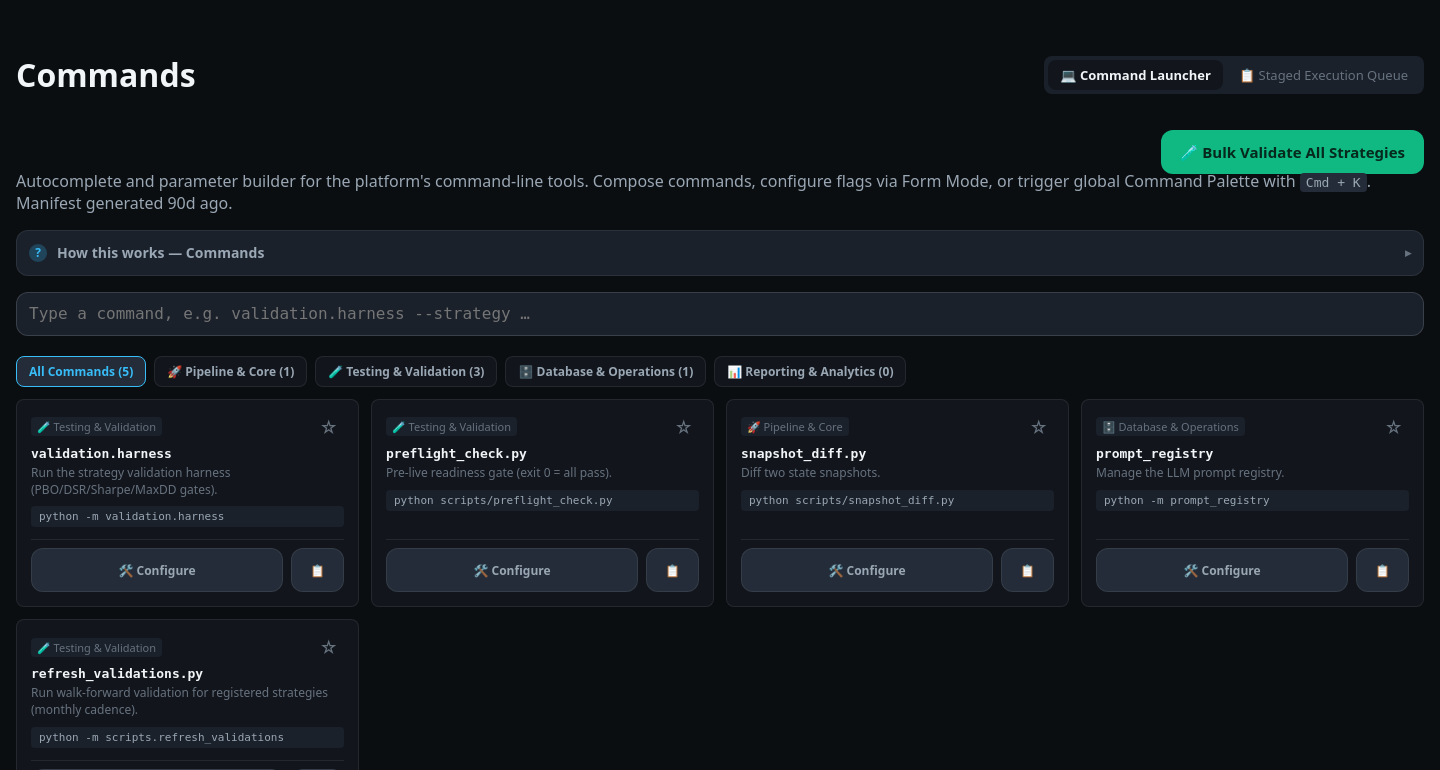
Test: Commands screen (real mock API) › composes the runnable command once complete
Expected: the text "validation.harness" is shown, [31, 446, 172, 461]
Type "validation.harness --strategy momentum" into the dropdown with test id "command-bar-input" at point(720, 314), box [16, 292, 1424, 336]
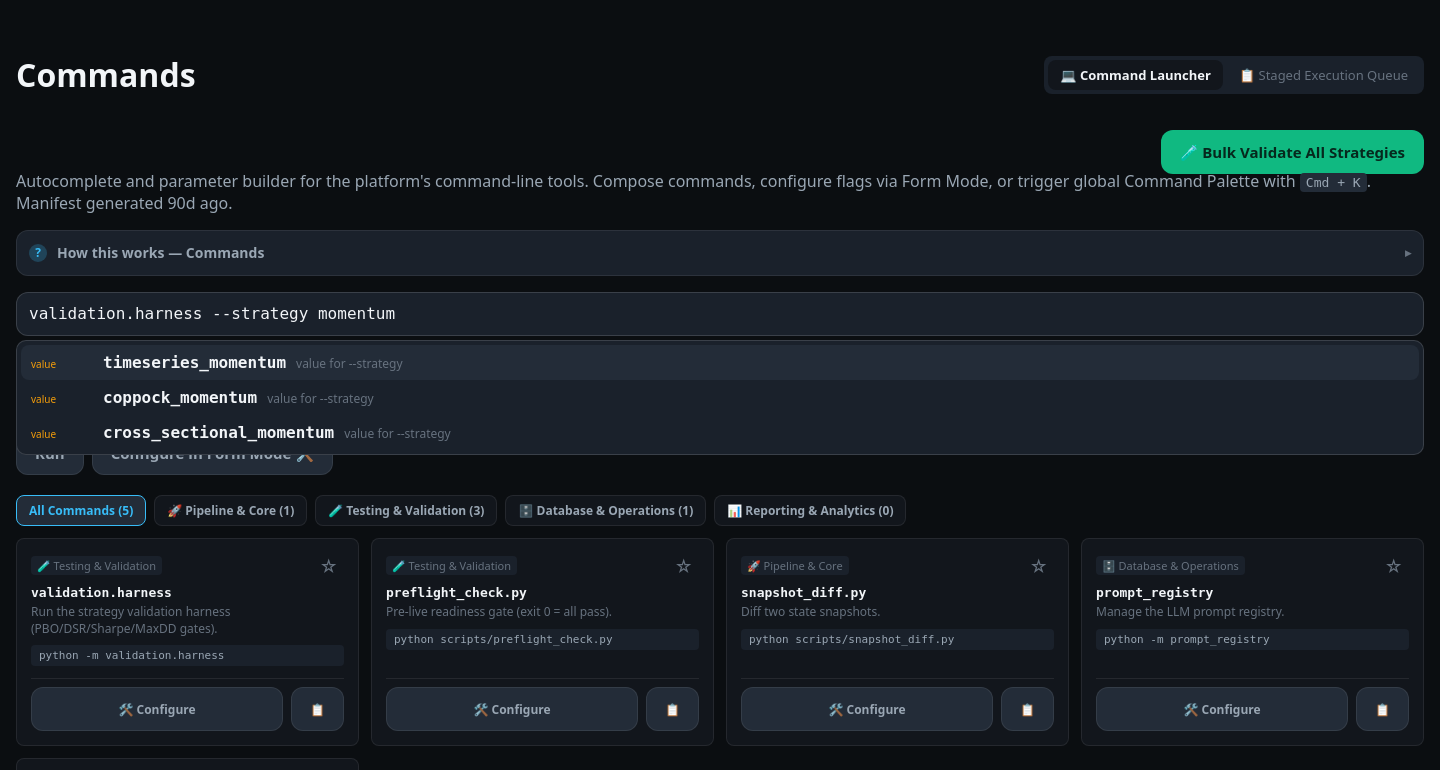
Now the text with test id "command-composed" reads "python -m validation.harness --strategy momentum", box [29, 386, 491, 405]
